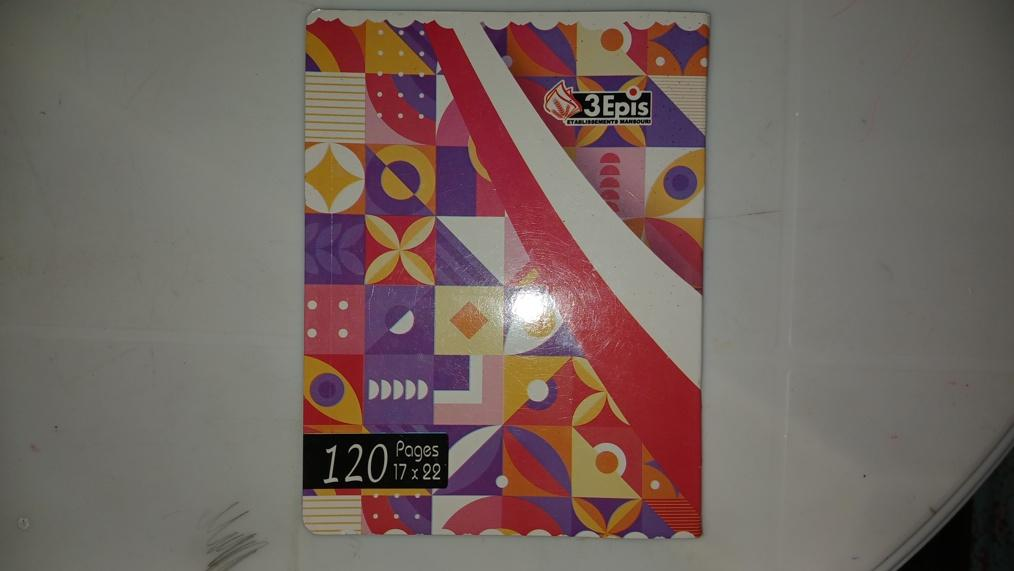notebook: (299, 6, 713, 539)
